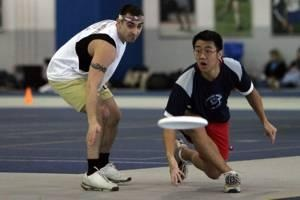person without safety: (54, 4, 152, 179), (177, 25, 251, 173)
